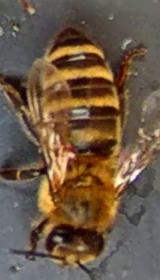varroa_mite: (51, 138, 82, 168)
